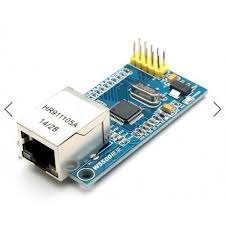Ethernet-W5500: (14, 25, 206, 207)
